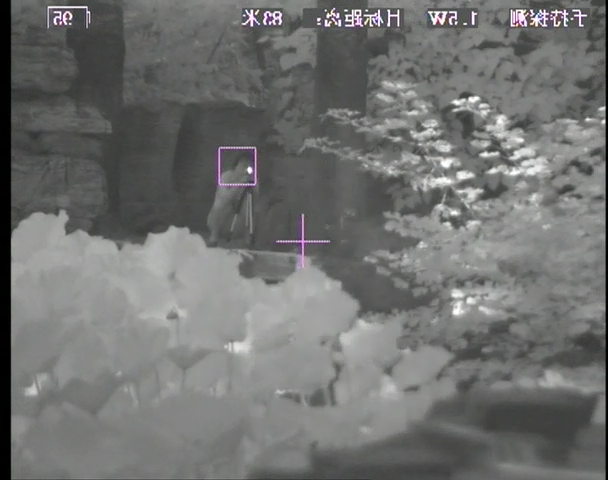my: (245, 164, 254, 175)
